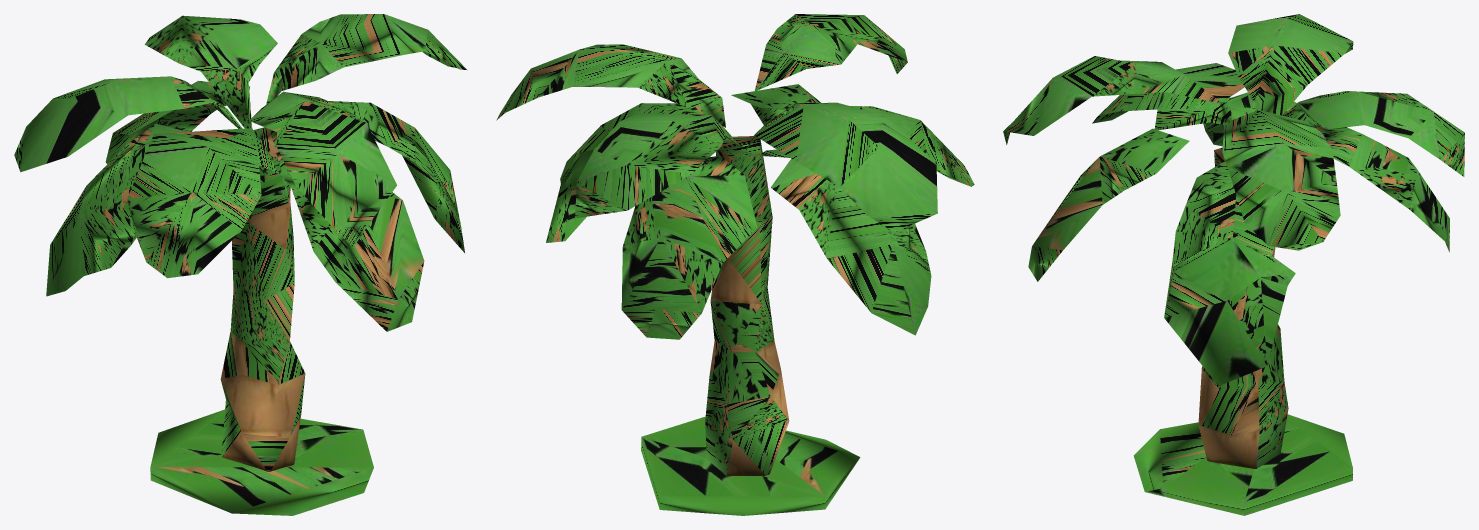
Rendered from palm-dense-far.glb.
The picture shows the model from 3 angles, left to right: view 1: azimuth 30°, elevation 25°; view 2: azimuth 150°, elevation 25°; view 3: azimuth 270°, elevation 25°; orthographic projection. The views are drawn at different scales.
Visible parts, largest first — view 1: geometry_0; view 2: geometry_0; view 3: geometry_0.
Boxes of the visible parts, left/top/right/bottom form: geometry_0: left=14, top=14, right=467, bottom=515; geometry_0: left=496, top=14, right=974, bottom=515; geometry_0: left=1003, top=14, right=1464, bottom=515.
Size of the model in its own units: 0.915 by 0.8242 by 0.8657.
1 material, 1 textured.
